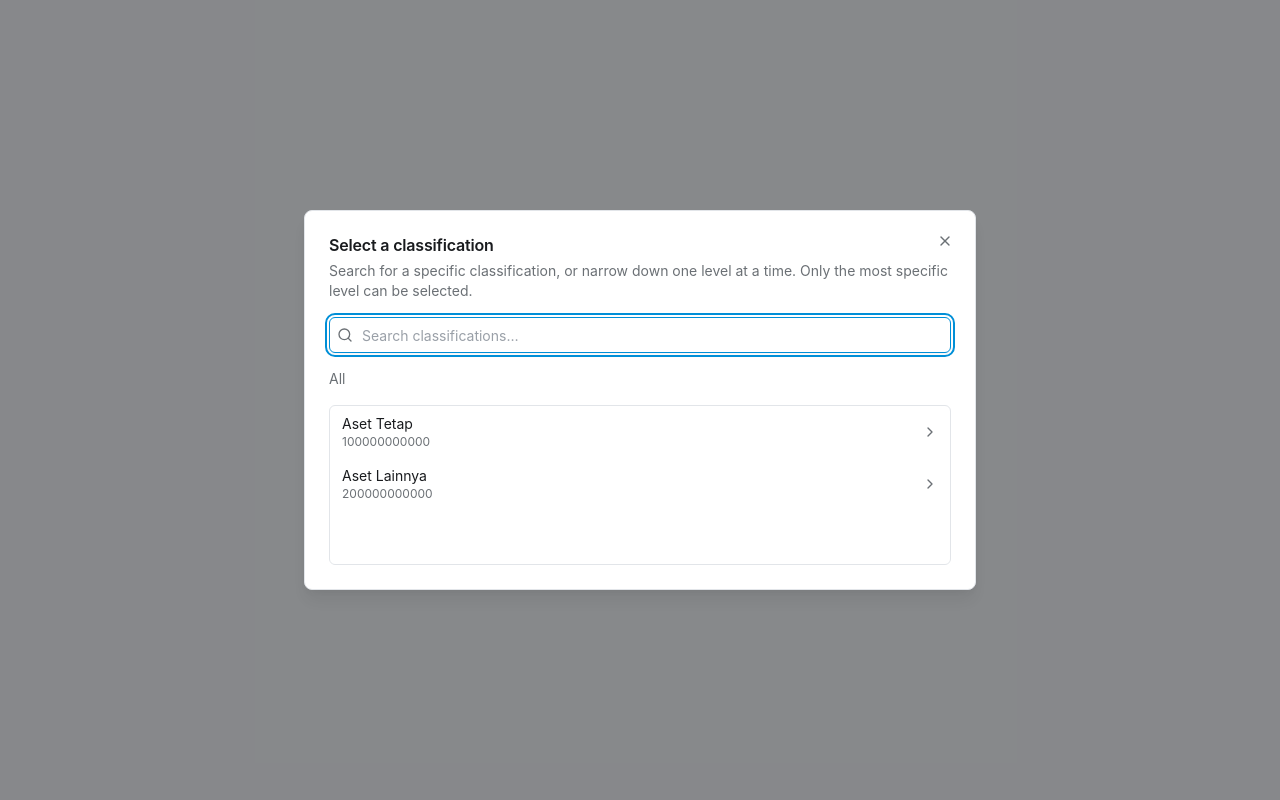
Test: ClassificationPicker — drill-down (§4.5) › jumps back up through the breadcrumb
The width and height of the screenshot is (1280, 800).
Click the text "Aset Tetap" at (377, 424), box [342,414,413,434]
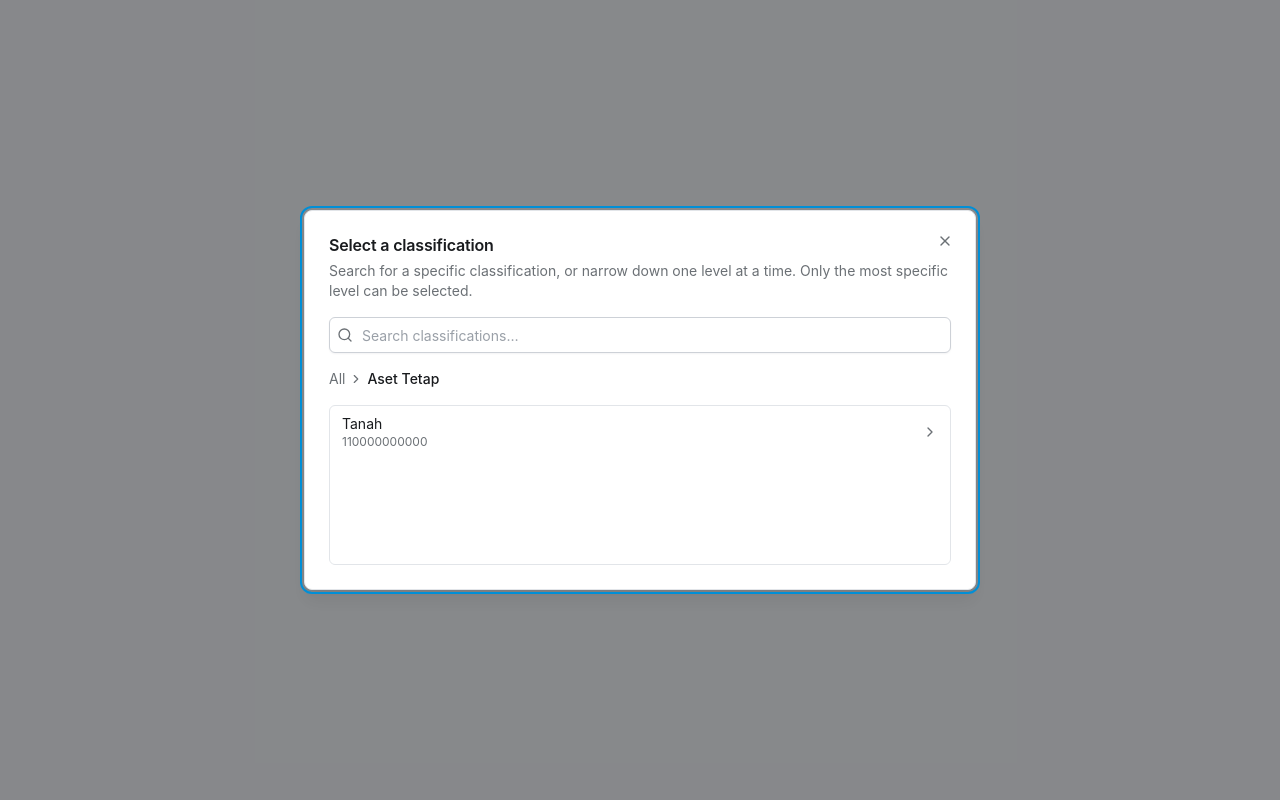
Check: the text "Tanah" is shown, box [342,414,382,434]
Click the button "All" at (337, 379), box [329,369,346,389]
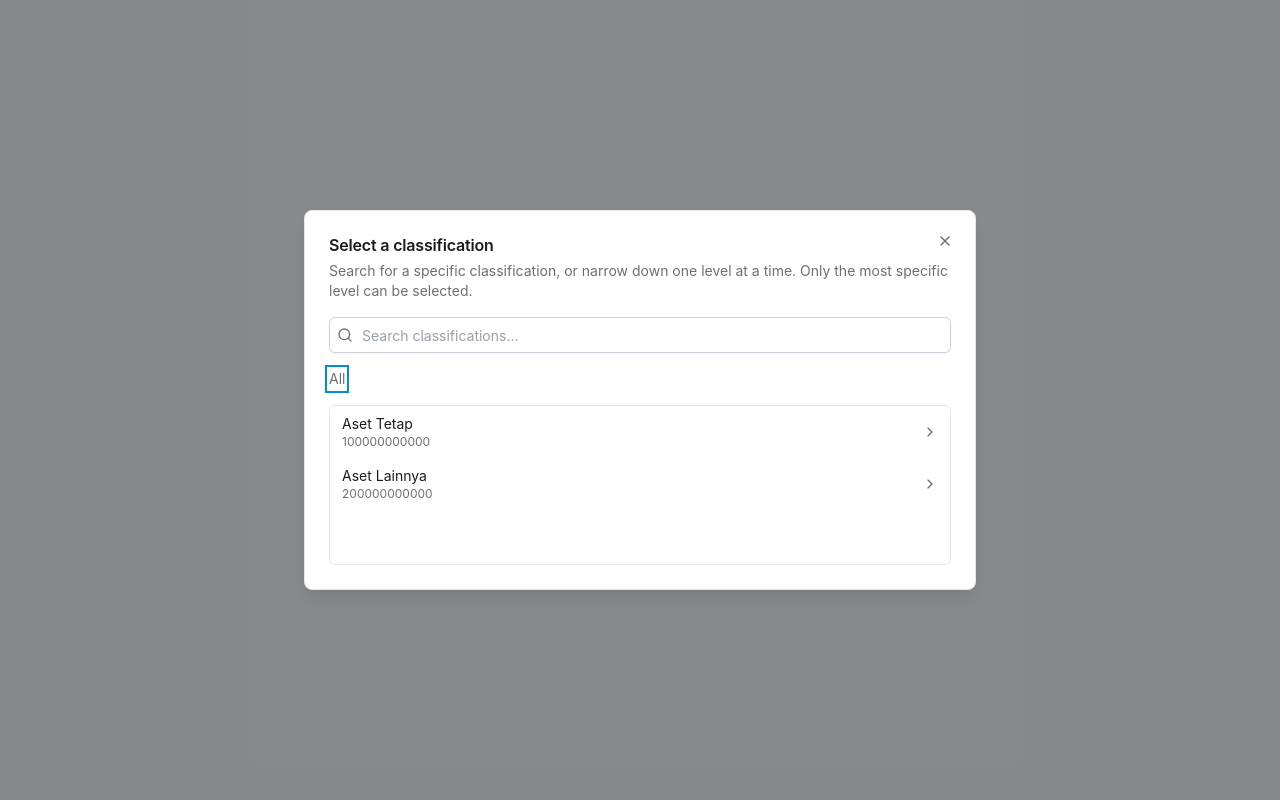
Check: the text "Aset Lainnya" is shown, box [342,466,427,486]
